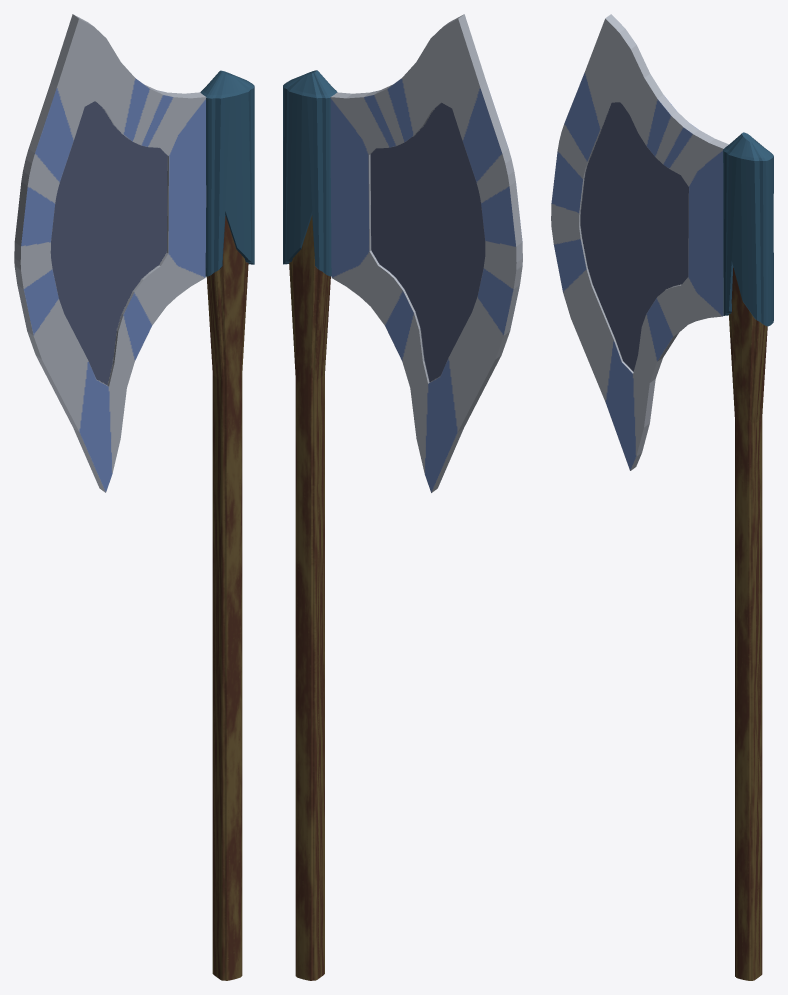
The model's file is Топор.fbx.
3 renders of one model, left to right at view 1: azimuth 30°, elevation 25°; view 2: azimuth 150°, elevation 25°; view 3: azimuth 330°, elevation 25°, orthographic. The views are drawn at different scales.
Parts seen in each view (by area): view 1: железо; view 2: железо; view 3: железо.
Boxes of the visible parts, box(x1,y1,x2,y2) form: железо: box(14, 14, 254, 980); железо: box(283, 14, 522, 980); железо: box(551, 14, 773, 980).
Size of the model in its own units: 0.1358 by 0.5508 by 0.0166.
1 material, 1 textured.
